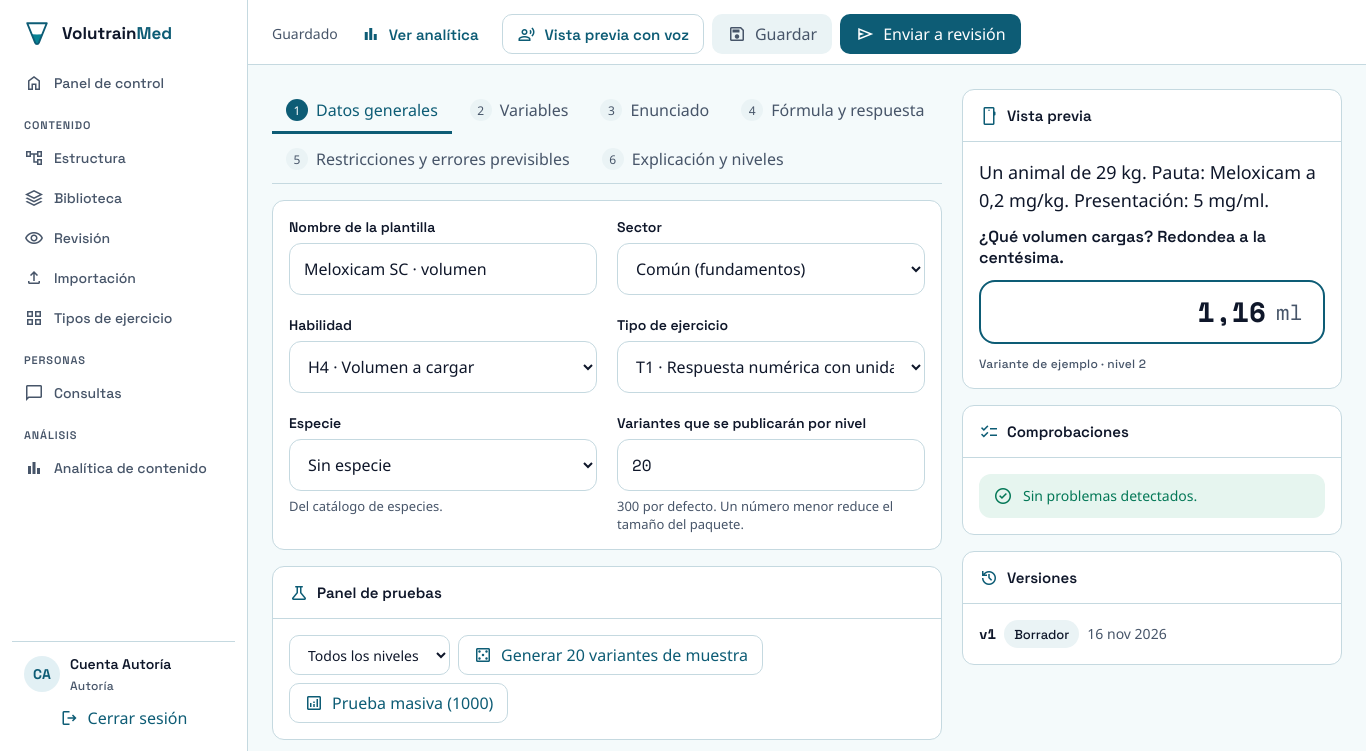
Scenario: B06–B09 · editor de plantillas › Colisión detectada: el informe la señala y la plantilla no puede enviarse a revisión hasta resolverla
(page scrolled)
Expected: the button "Enviar a revisión" is enabled, [840,14,1021,54]
Step 1. Click the button "Prueba masiva (1000)" → (399, 703), box [289,683,508,723]
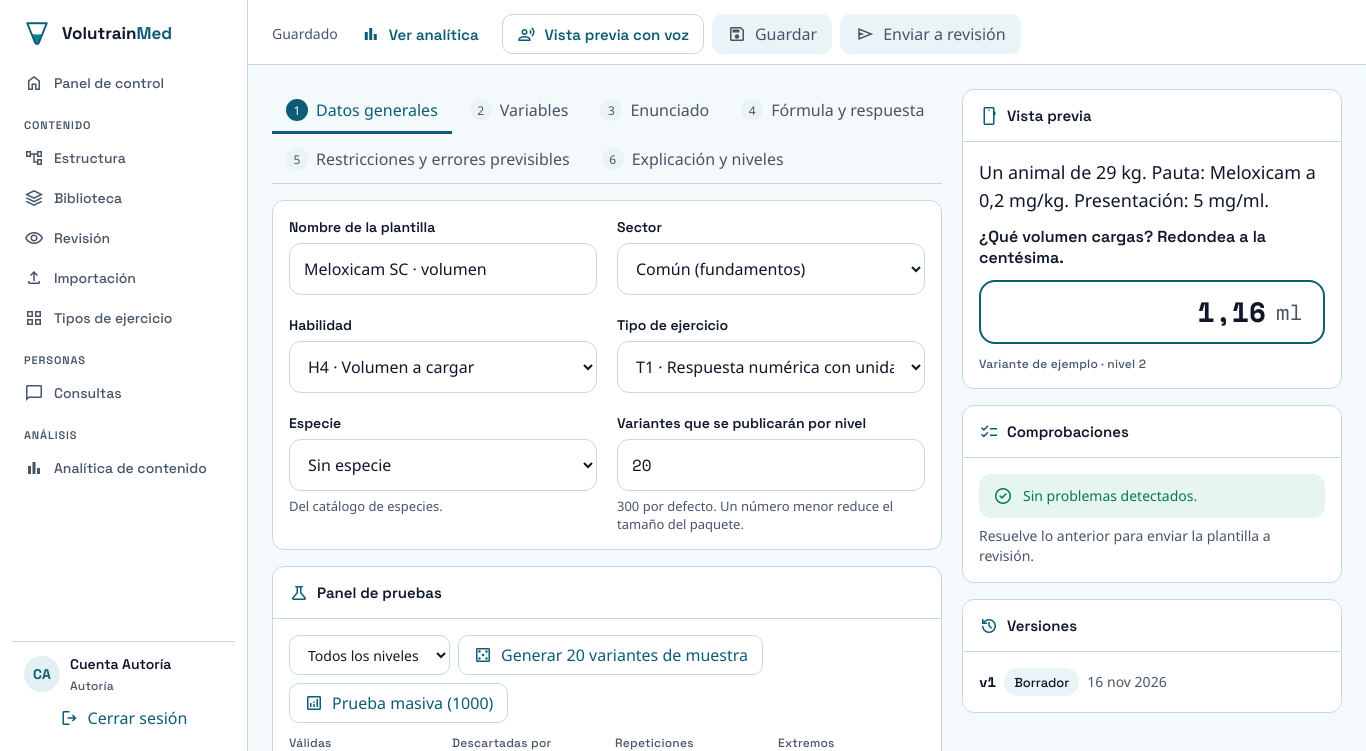
Expected: the button "Enviar a revisión" is disabled, [840,14,1021,54]
